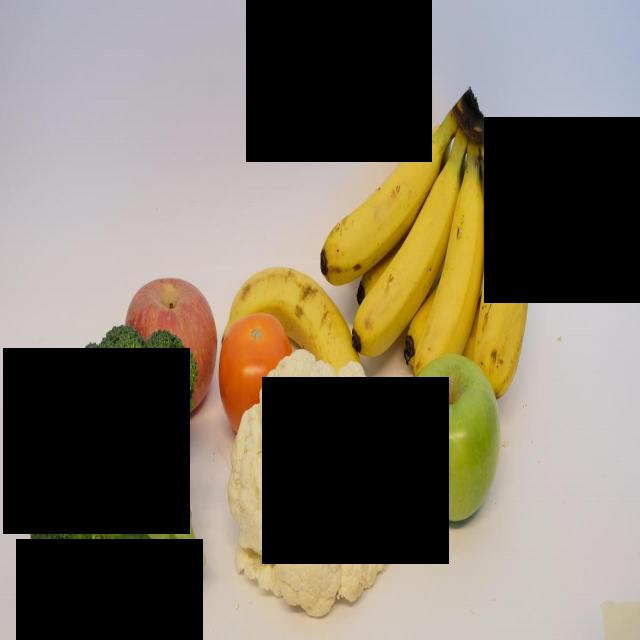apple: (404, 350, 501, 527), (122, 276, 218, 420)
banana: (352, 136, 467, 353), (307, 105, 451, 277), (471, 144, 533, 404), (411, 156, 484, 370), (220, 264, 359, 367)
broccoli: (26, 321, 208, 631)
cauliflower: (225, 347, 408, 618)
tomato: (220, 312, 293, 440)
